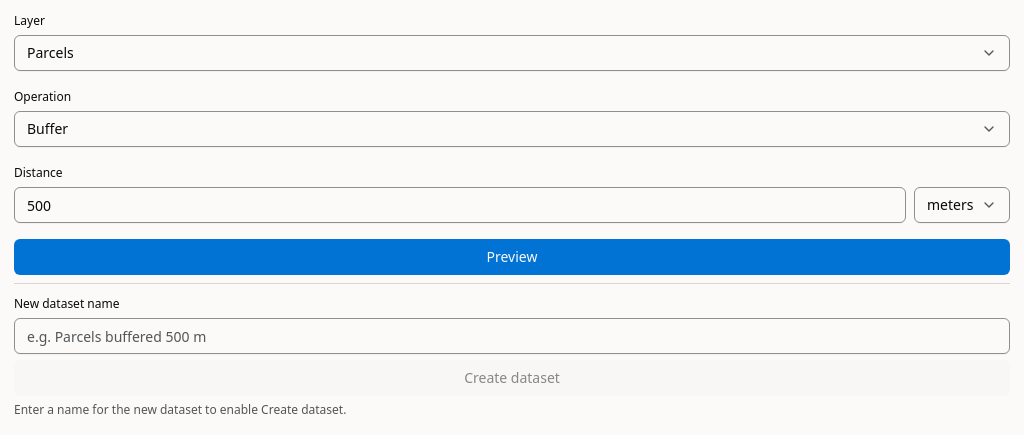
Test case: AnalysisPanel — chat handoff prefill (#675) › state lifecycle (fix #757/#758/#760/#764) › keeps the typed name when the run fails (#793 review)
Type "Walkshed" into the field labelled "New dataset name".
click(512, 336); type("Walkshed")  # box [14,318,1010,354]
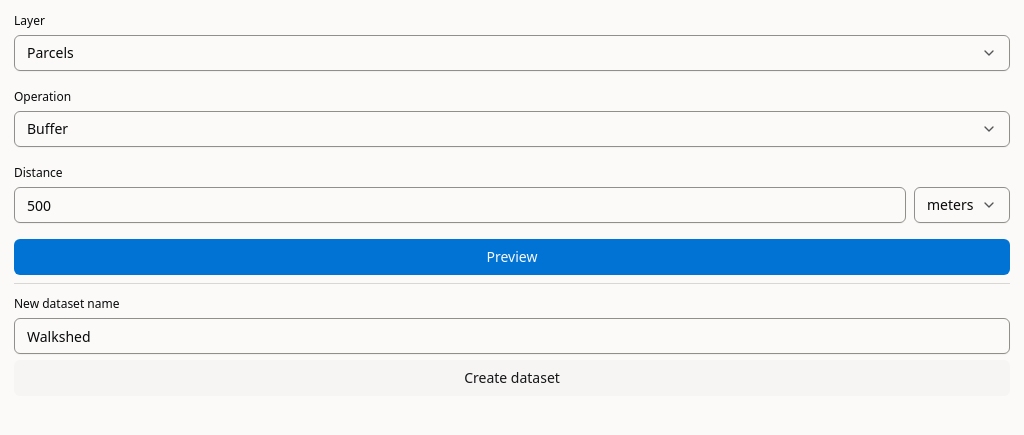
Click the button "Create dataset".
click(512, 378)  # box [14,360,1010,396]
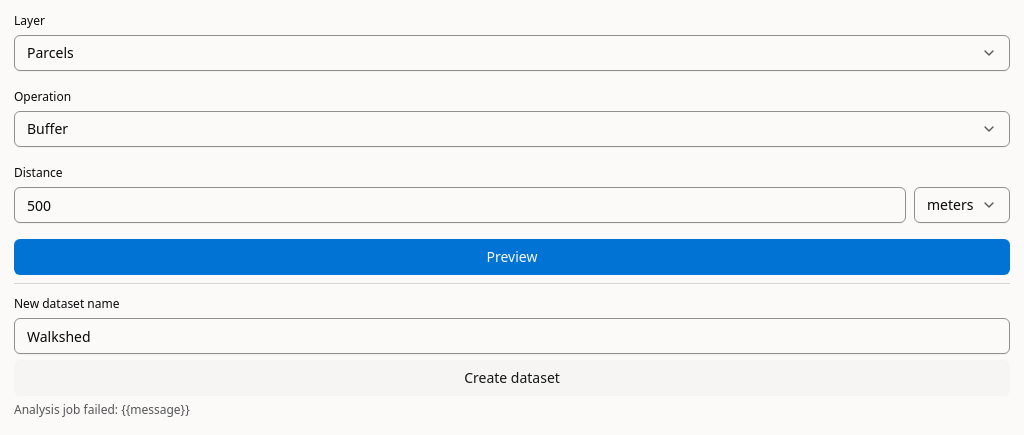
Check: the text "Analysis job failed: {{message}}" is shown, box [14,401,190,418]
